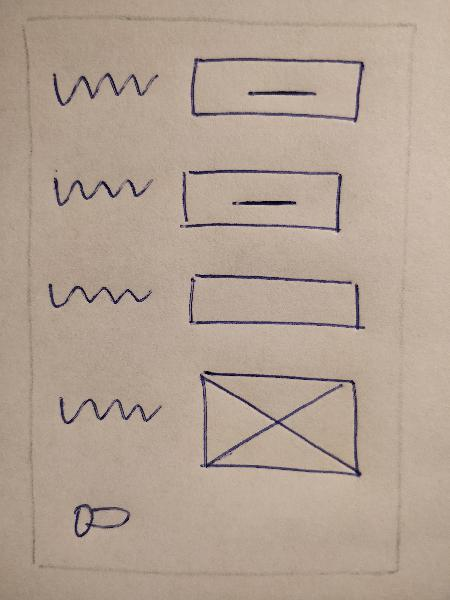button: (181, 52, 374, 128), (176, 162, 348, 236)
image: (190, 364, 365, 488)
switch: (67, 493, 132, 546)
text: (43, 61, 159, 115), (45, 161, 159, 215), (43, 268, 157, 322), (51, 383, 165, 437)
text_input: (183, 262, 371, 341)
